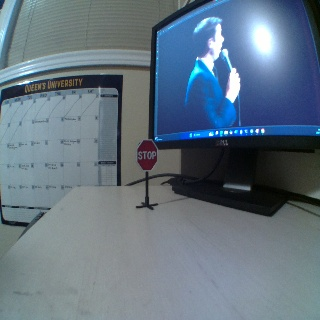sign_stop: (136, 140, 156, 171)
